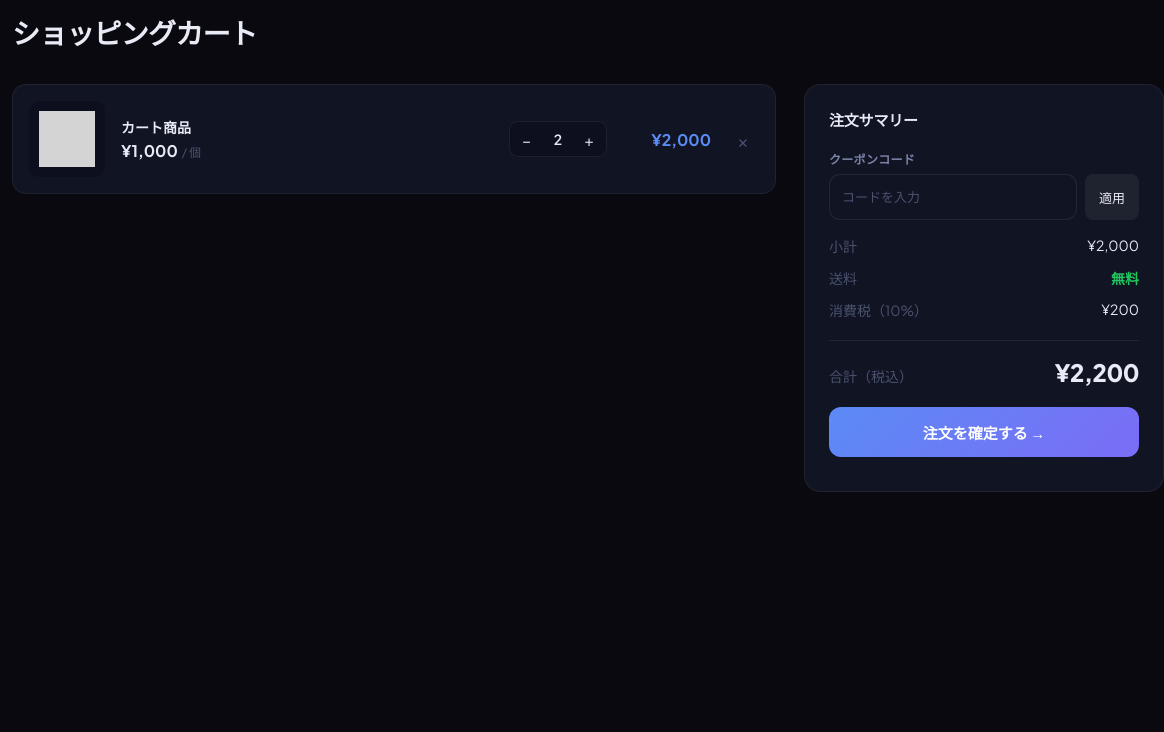
Test case: CartView › shows an error for an invalid coupon
Check: the text "カート商品" is shown, box [121,118,191,136]
Type "BADCODE" into the field with placeholder "コードを入力" at [953, 197], box [829,174,1077,220]
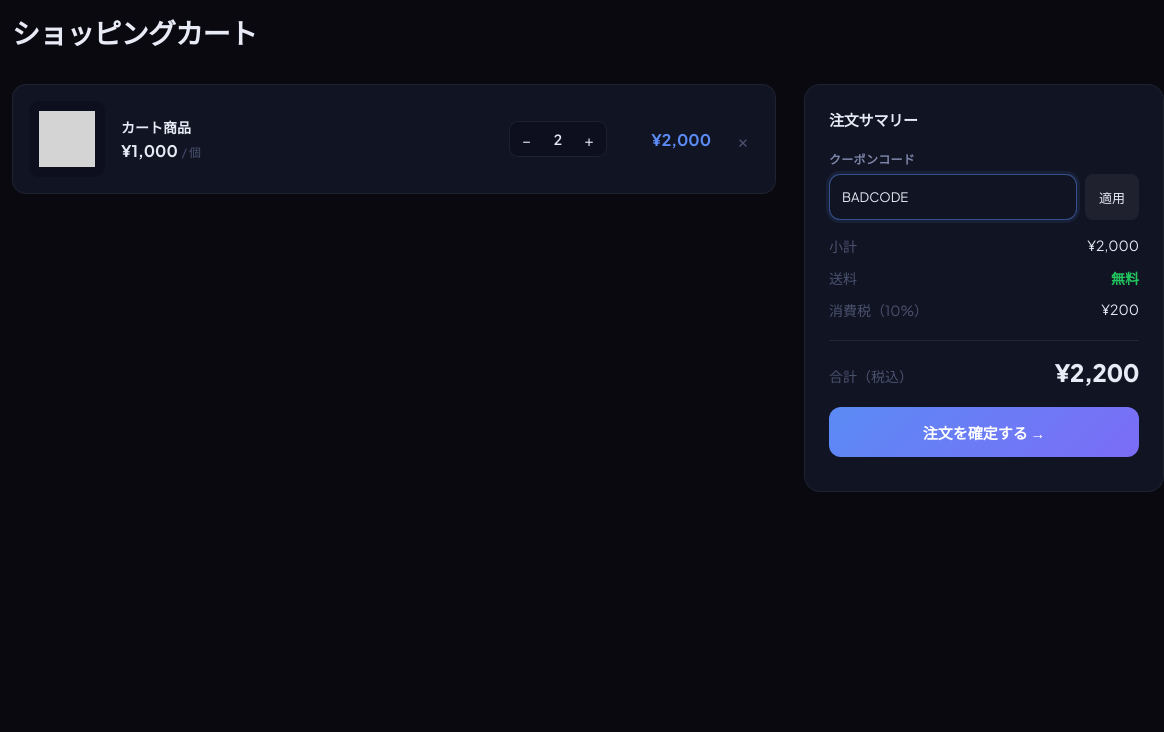
Click the button "適用" at [1112, 197], box [1085,174,1139,220]
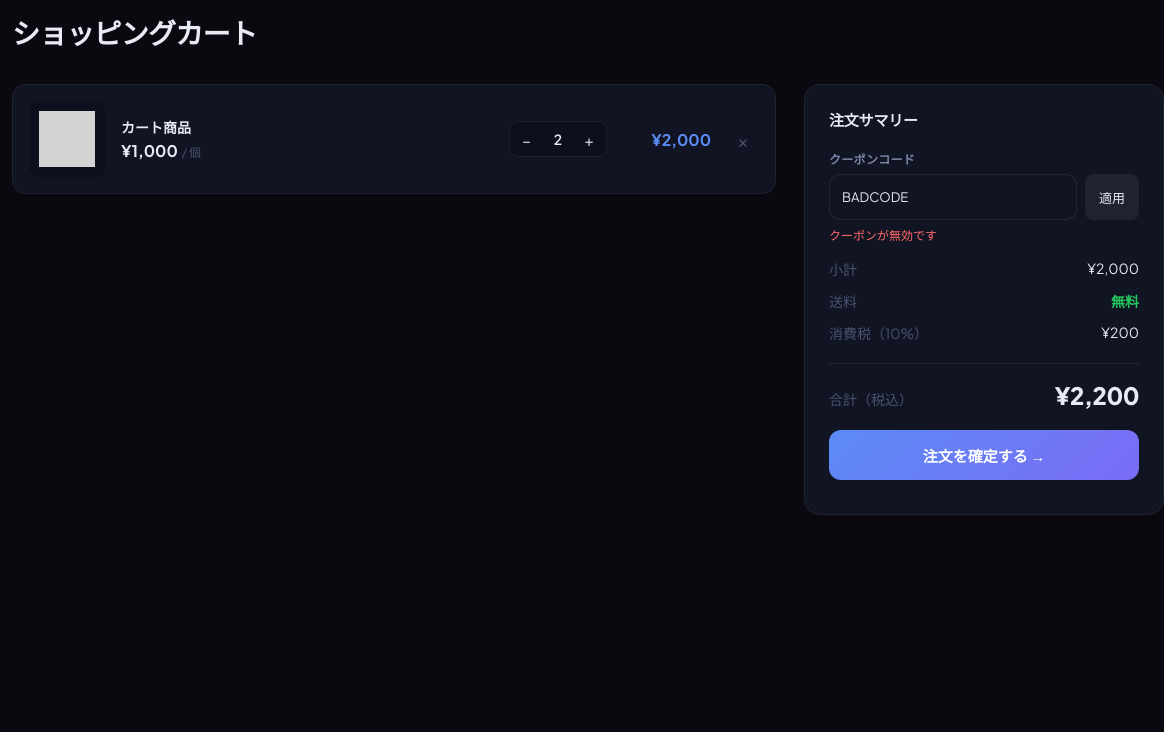
Check: the text "クーポンが無効です" is shown, box [829,228,937,243]
